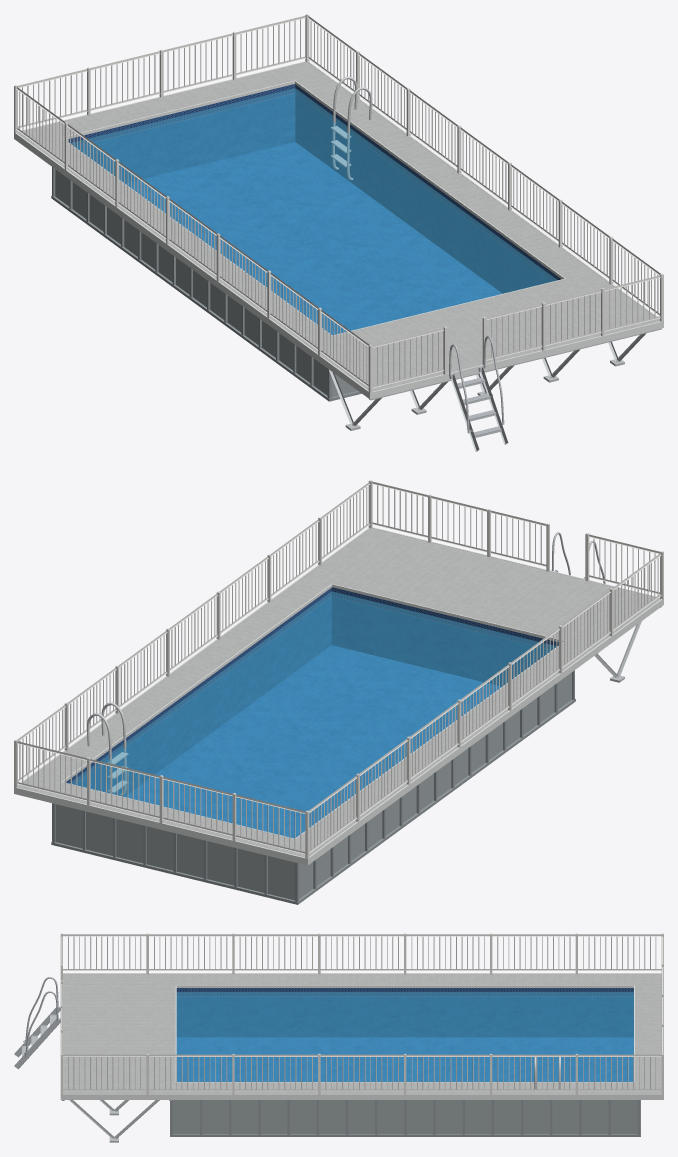
The model's file is kayak-pool-16x32-gray.glb.
3 views of the same model, one above another, from view 1: azimuth 30°, elevation 25°; view 2: azimuth 150°, elevation 25°; view 3: azimuth 270°, elevation 25° (orthographic). The views are drawn at different scales.
Visible parts, largest first — view 1: water, deck, liner_floor, fence, liner_wall, fascia, wall, upright, stud, ladder, steel; view 2: water, deck, liner_floor, fence, liner_wall, wall, fascia, upright, steel; view 3: water, deck, liner_wall, liner_floor, fence, wall, fascia, upright, ladder, stud.
Boxes of the visible parts, x1,y1,x2,y2 form: water: (71,88,557,335); deck: (17,62,659,391); liner_floor: (125,142,502,335); fence: (14,14,663,392); liner_wall: (68,84,561,293); fascia: (14,61,663,399); wall: (55,169,357,396); upright: (51,167,361,401); stud: (306,328,661,430); ladder: (449,336,508,451); steel: (330,76,372,180); water: (69,591,556,838); deck: (18,528,660,857); liner_floor: (125,645,501,838); fence: (14,480,663,858); liner_wall: (66,587,558,796); wall: (55,672,571,900); fascia: (14,527,663,865); upright: (51,670,575,904); steel: (87,702,128,795); water: (176,992,633,1081); deck: (63,973,661,1093); liner_wall: (176,988,633,1037); liner_floor: (176,1037,633,1081); fence: (60,933,663,1094); wall: (173,1100,637,1133); fascia: (60,973,663,1099); upright: (170,1100,640,1136); ladder: (14,977,60,1068); stud: (61,1100,171,1142).
Size of the model in its own units: 6.1 by 2.15 by 13.79.
11 materials, 3 textured.
